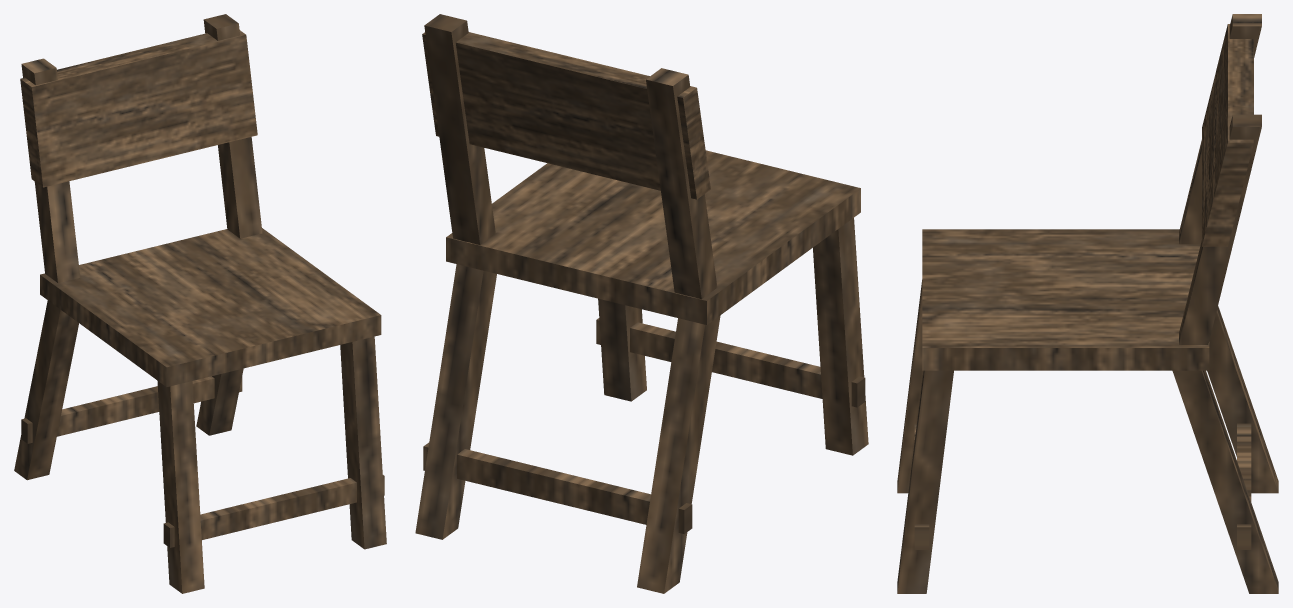
Rendered from SM_Chair01.fbx.
3 views of the same model, side by side, from view 1: azimuth 30°, elevation 25°; view 2: azimuth 150°, elevation 25°; view 3: azimuth 270°, elevation 25° (orthographic). The views are drawn at different scales.
Visible parts, largest first — view 1: SM_Chair01; view 2: SM_Chair01; view 3: SM_Chair01.
Part boxes in pixels (bbox=[...]): SM_Chair01: bbox=[14, 14, 386, 593]; SM_Chair01: bbox=[415, 14, 868, 593]; SM_Chair01: bbox=[897, 14, 1278, 593].
Bounding box in the file's own units: 67.26 × 123 × 91.33.
